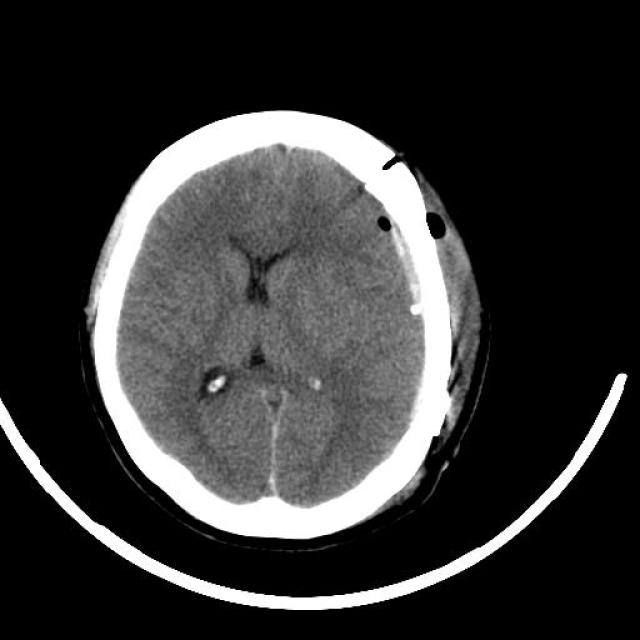Subdural: (365, 204, 477, 351)
